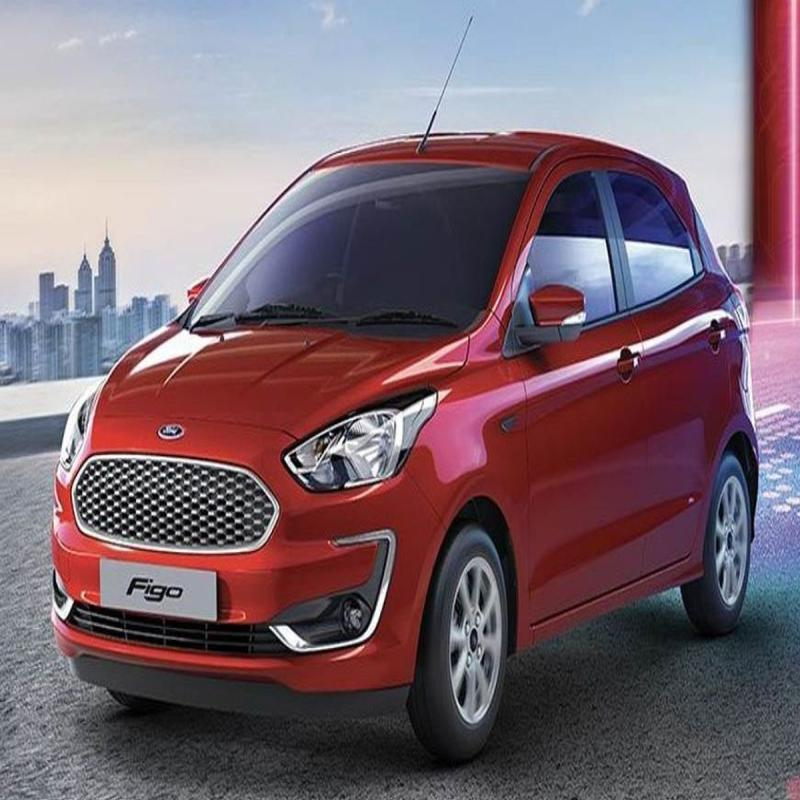car: (44, 83, 757, 758)
